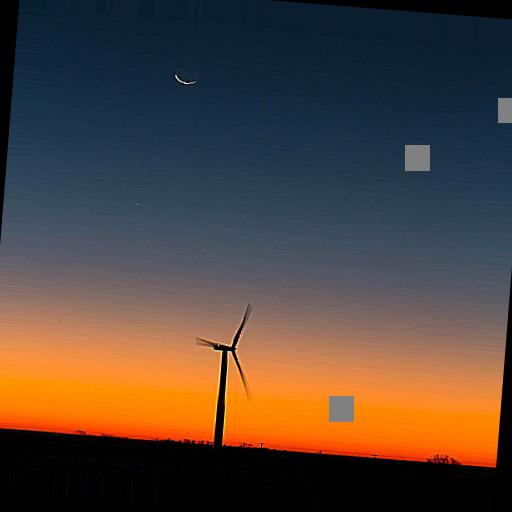wind turbine: (195, 301, 252, 449)
